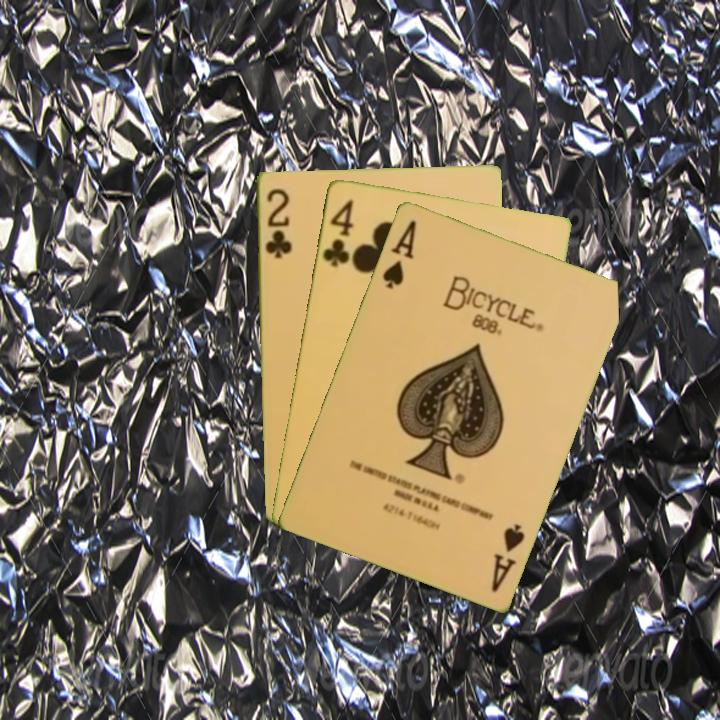2c: (261, 185, 294, 261)
4c: (318, 195, 356, 269)
As: (378, 216, 419, 291), (487, 519, 528, 594)
